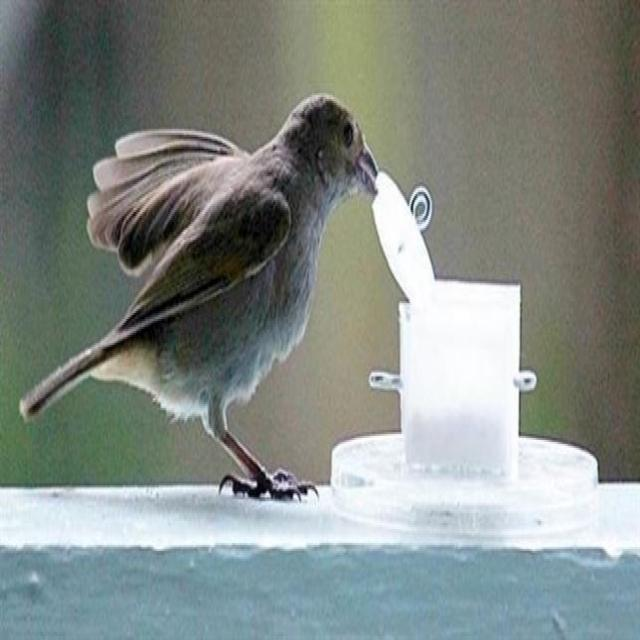bird: (8, 2, 392, 620)
